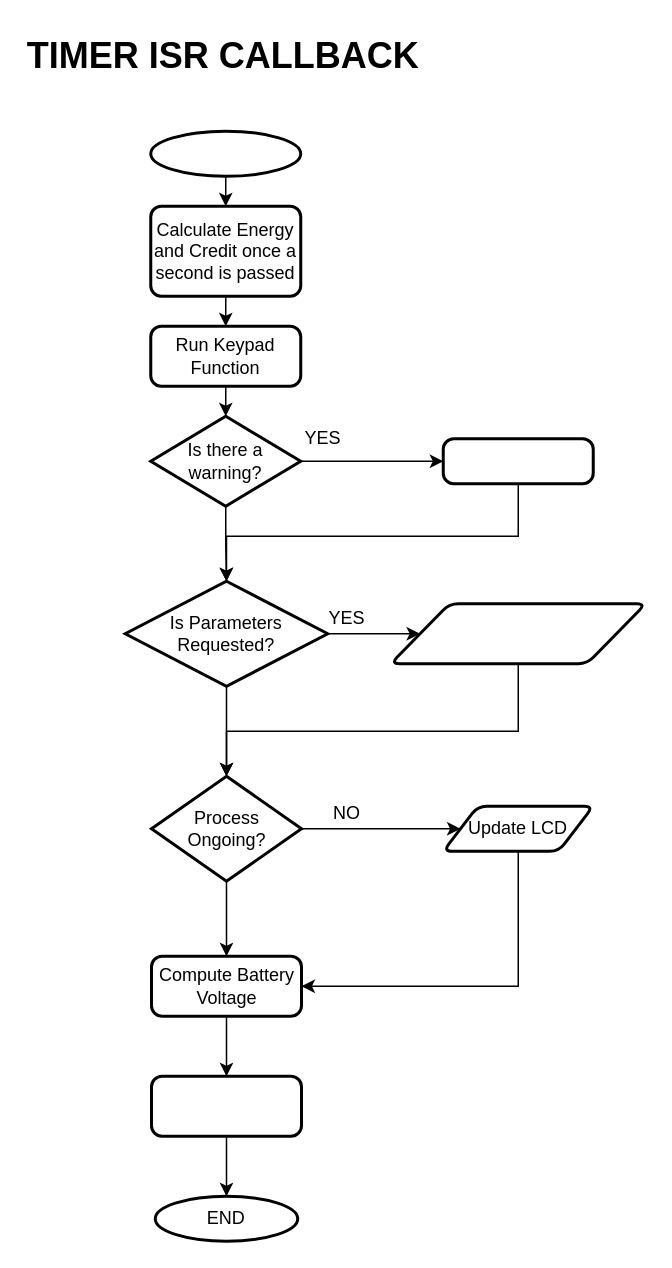
Image size: 672x1268. Some labels were removed from this diagram. Each missing label, with the centre of its shape:
Check for Faults: (x=225, y=1105)
Display Requested Parameter: (x=517, y=633)
Sound Buzzer: (x=517, y=460)
Start: (x=225, y=153)
